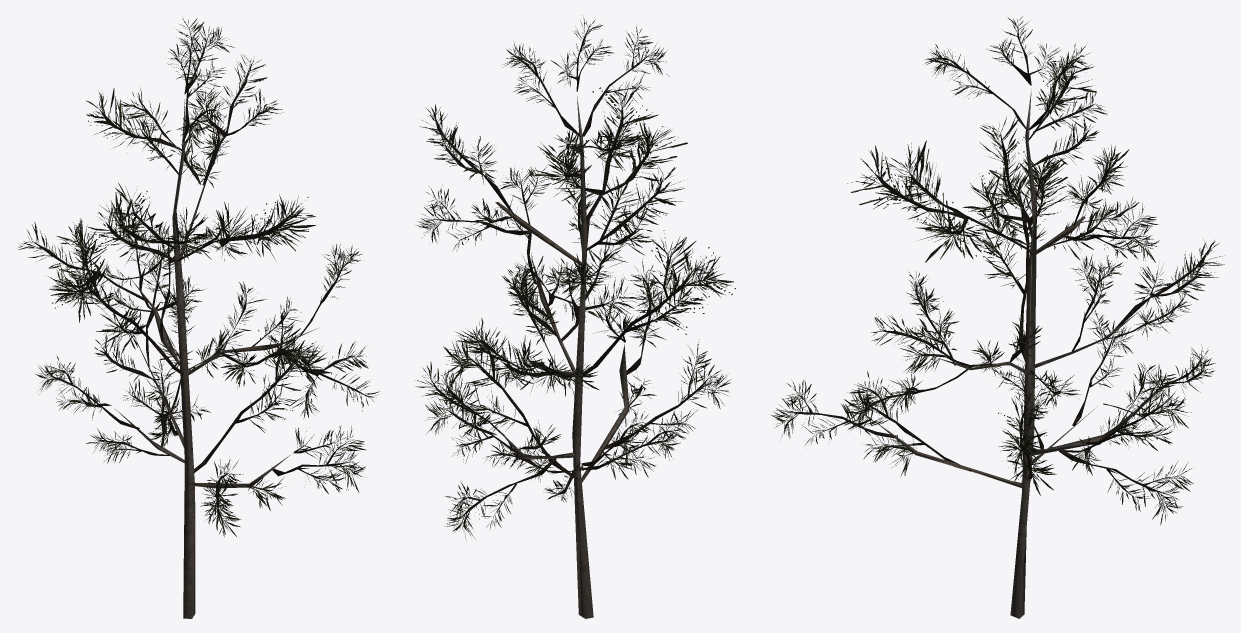
Rendered from pine_sapling_small_b.glb.
The picture shows the model from 3 angles, left to right: view 1: azimuth 30°, elevation 25°; view 2: azimuth 150°, elevation 25°; view 3: azimuth 270°, elevation 25°; orthographic projection. The views are drawn at different scales.
Parts seen in each view (by area): view 1: pine_sapling_small_b; view 2: pine_sapling_small_b; view 3: pine_sapling_small_b.
Boxes of the visible parts, x1=… form: pine_sapling_small_b: x1=18, y1=18, x2=379, y2=618; pine_sapling_small_b: x1=415, y1=15, x2=735, y2=618; pine_sapling_small_b: x1=771, y1=17, x2=1224, y2=618.
Size of the model in its own units: 0.5265 by 1.05 by 0.7271.
Materials: 2 (2 with a texture image).
